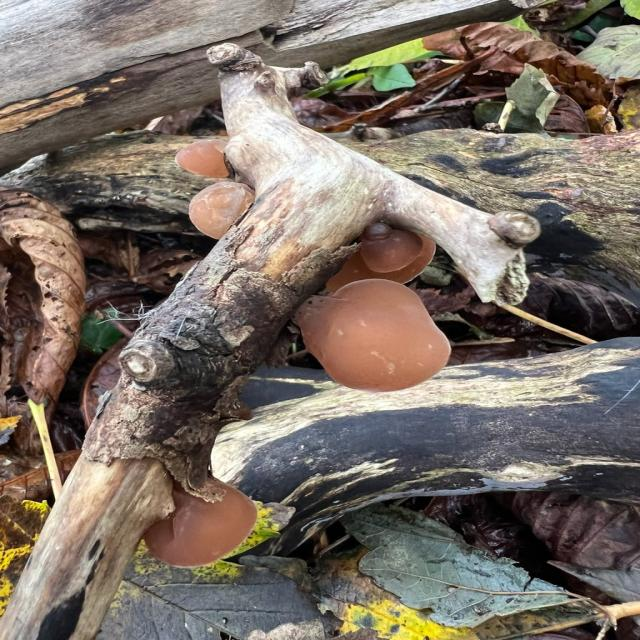Fase Muda: (295, 280, 456, 398), (139, 473, 263, 571), (187, 181, 273, 241), (355, 215, 421, 274), (167, 134, 243, 179)
